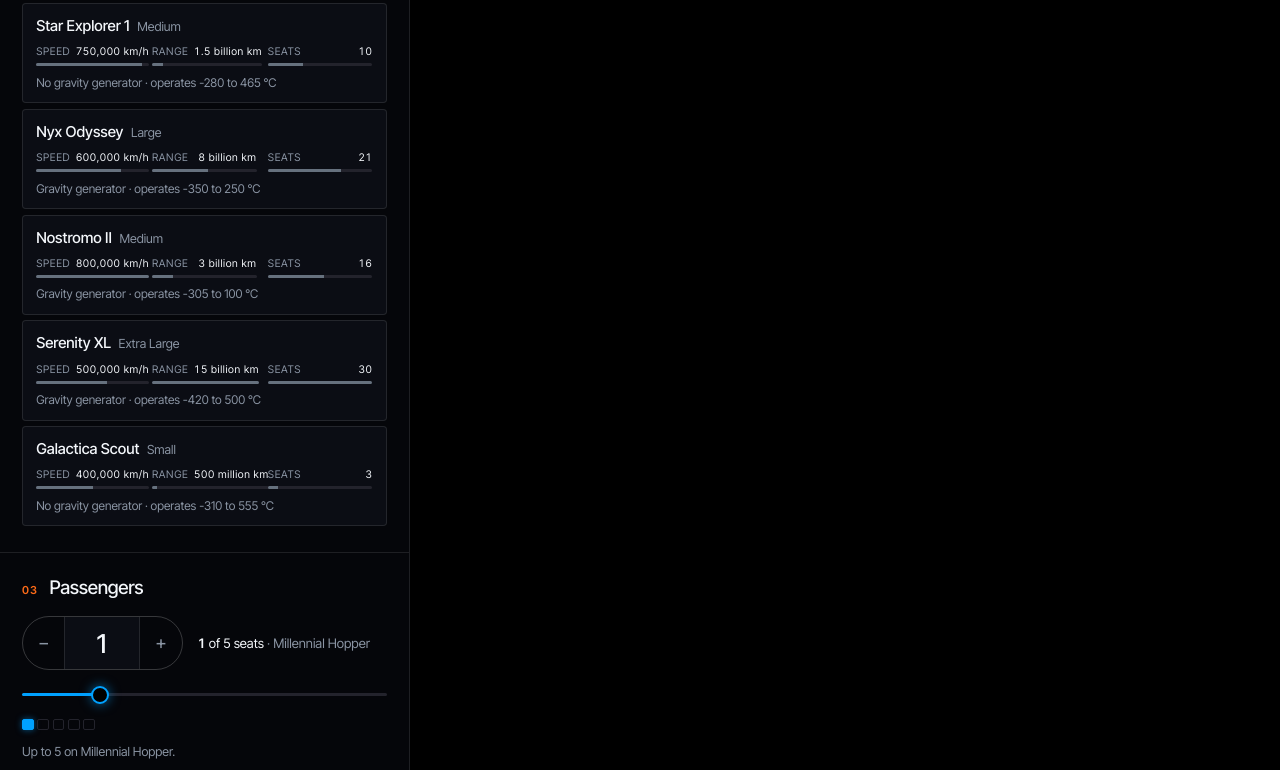
Test: Route diagram › keeps leg numbers apart when a return leg retraces the outbound one
(page scrolled)
Click the radio button labelled "Serenity XL" at (204, 370), box [22,320,387,420]
(page scrolled)
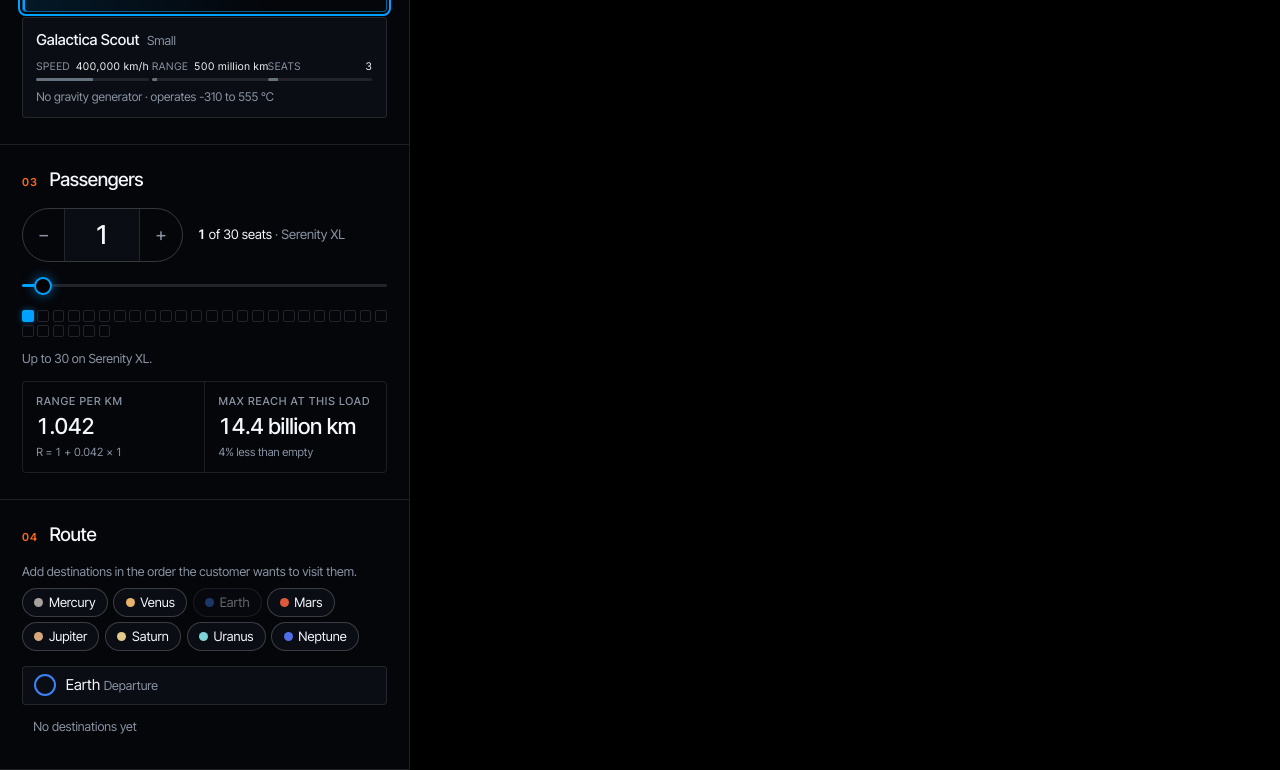
Click the button "Mercury" at (65, 603), box [22,588,108,617]
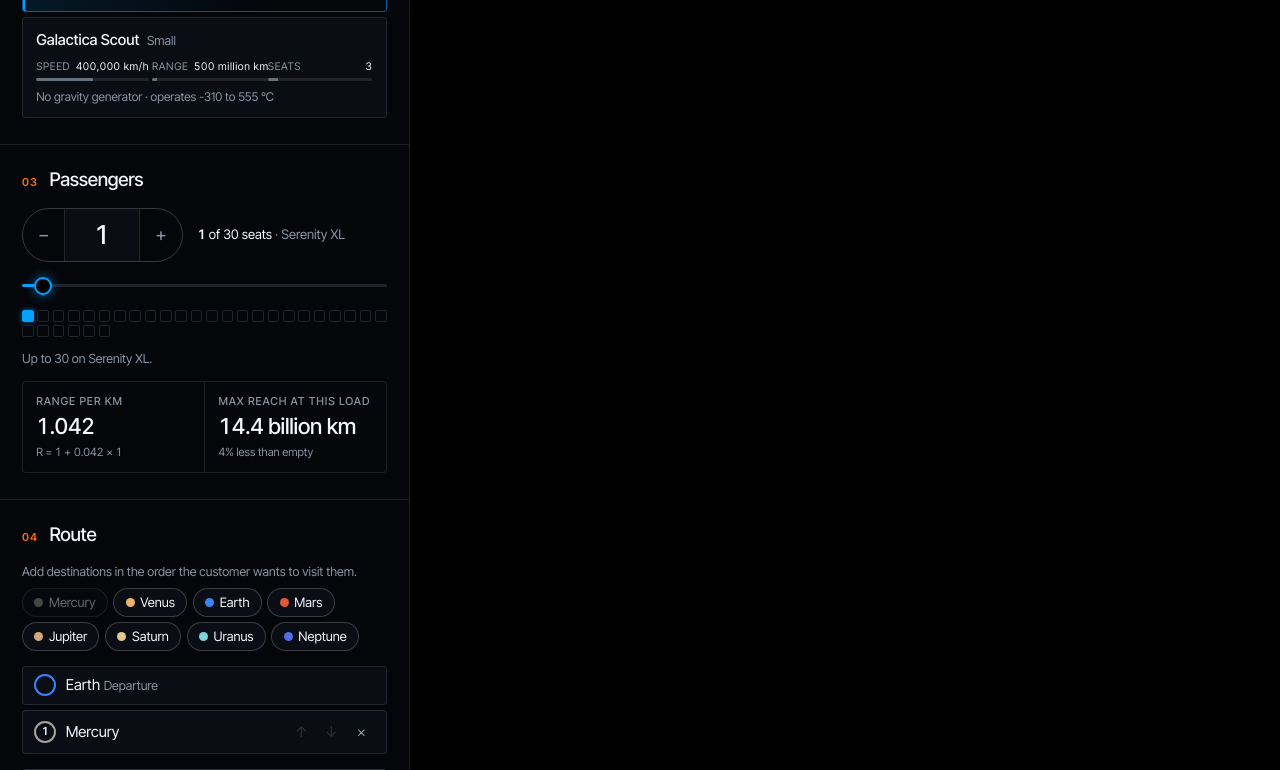
Click the button with aria-label "Add Earth" at (227, 603), box [193,588,262,617]
(page scrolled)
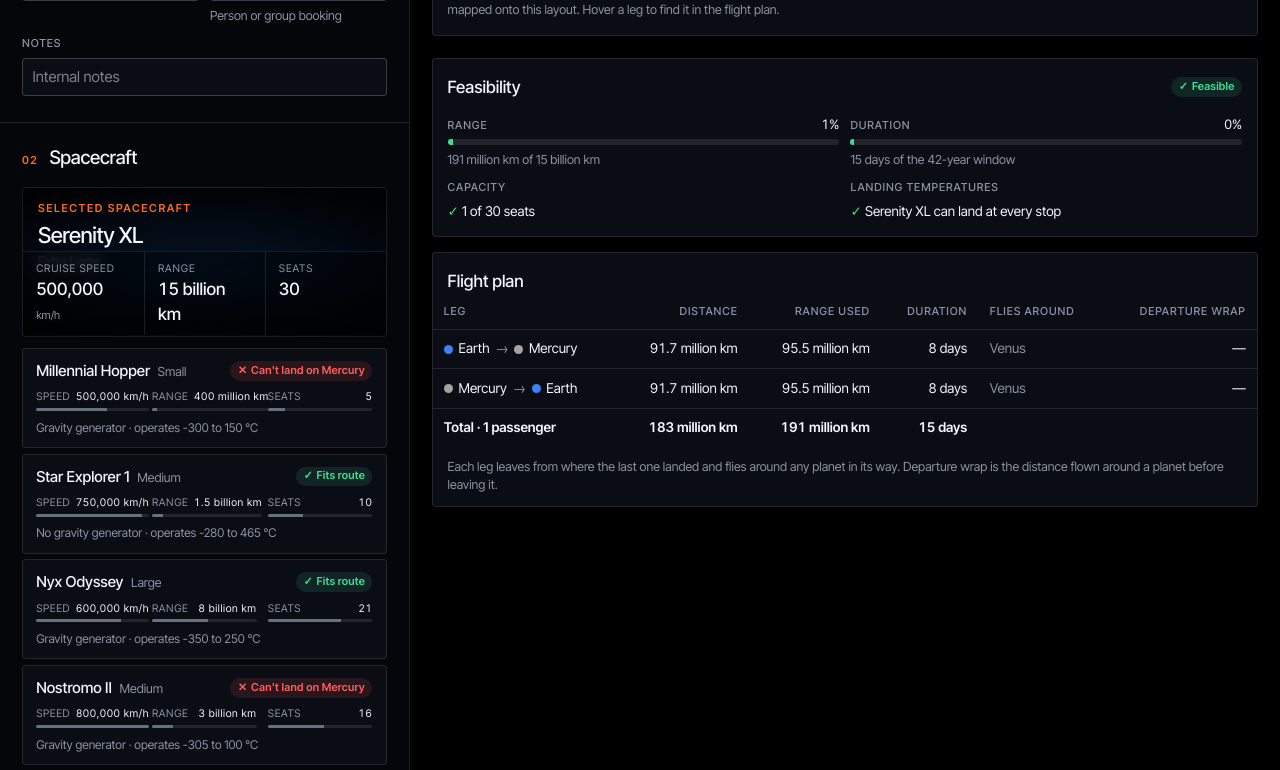
Result: the table is shown at [433,294,1257,447]
